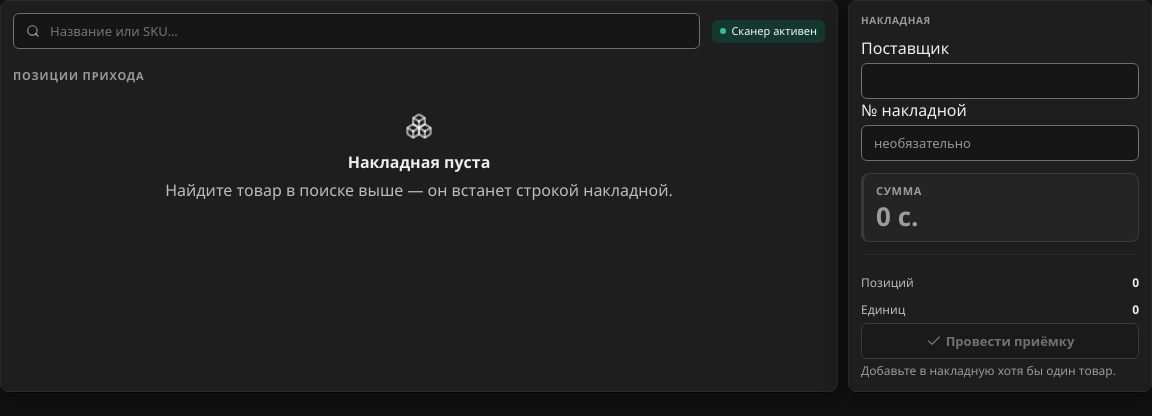
Test: ReceivingWorkspace › частичный сбой оставляет непроведённые строки
Type "cola" into the search field named "Добавить товар". click: (368, 31)
box: [48,21,687,41]
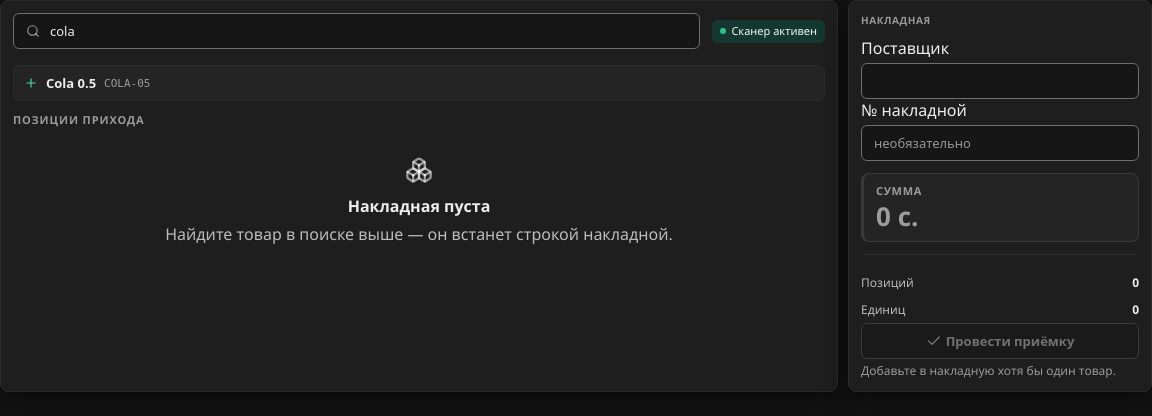
Click the button "Cola 0.5 COLA-05". click: (71, 83)
box: [14,66,824,100]
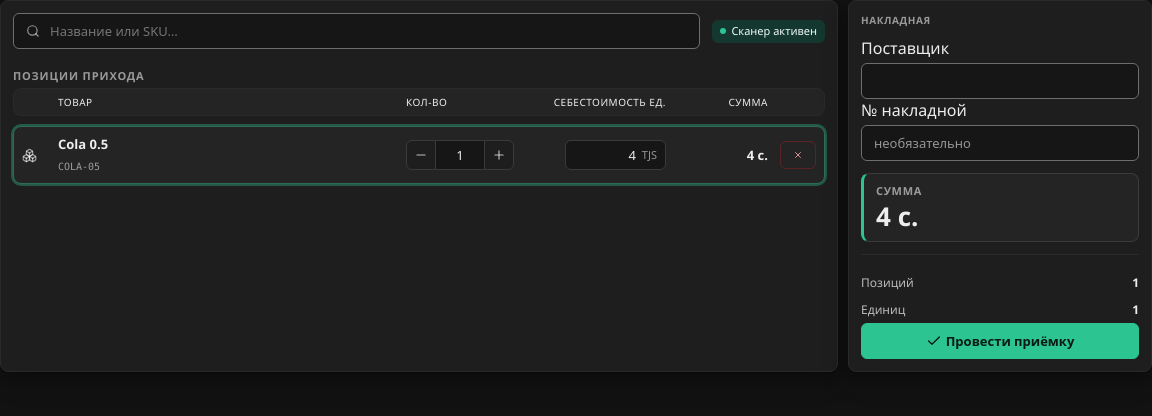
Type "чипсы" into the search field named "Добавить товар". click: (368, 31)
box: [48,21,687,41]
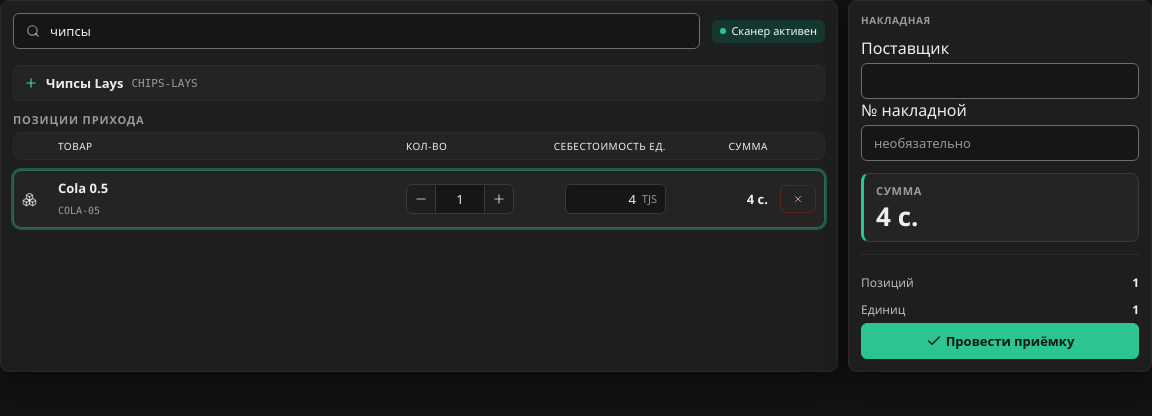
Click the button "Чипсы Lays CHIPS-LAYS". click: (85, 83)
box: [14,66,824,100]
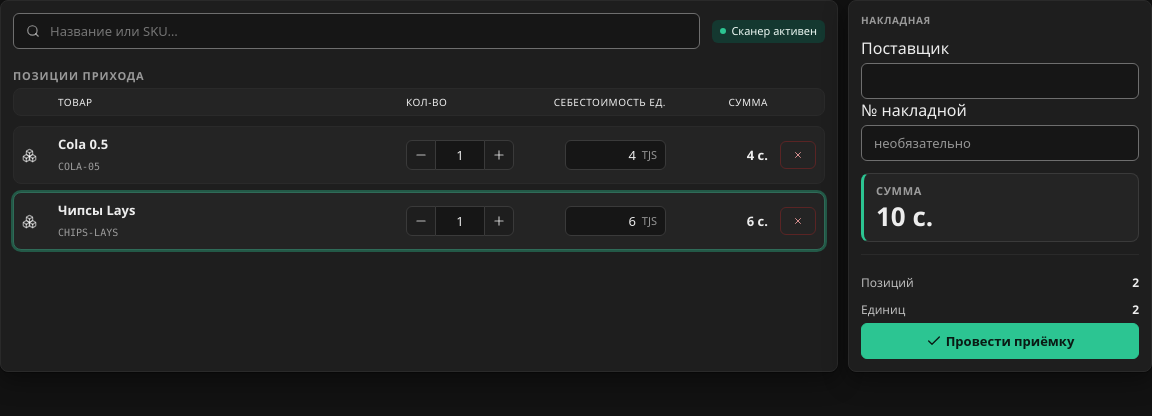
Click the button "Провести приёмку". click: (1000, 341)
box: [861,323,1139,359]
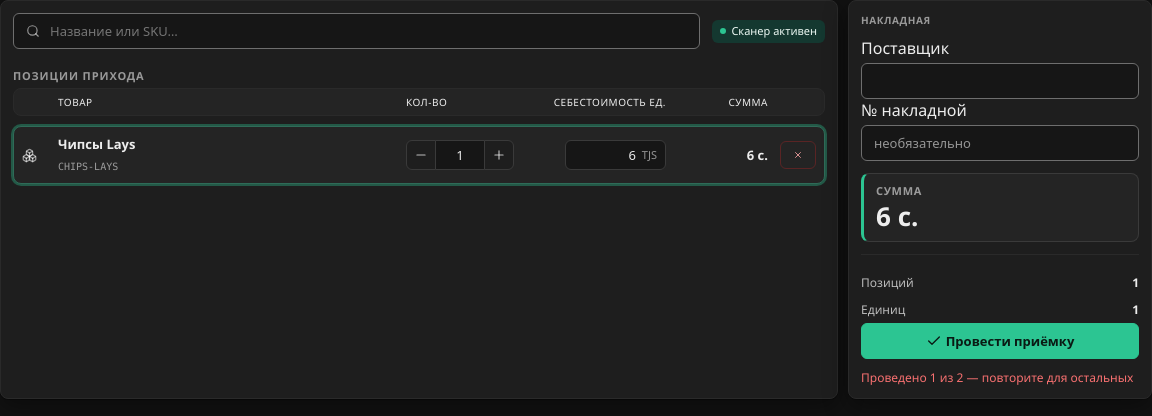
Check: the text "Чипсы Lays" is shown, box [58,135,136,153]
Check: the text "Проведено 1 из 2 — повторите для остальных" is shown, box [861,369,1139,386]
Check: the text "Cola 0.5" is gone
